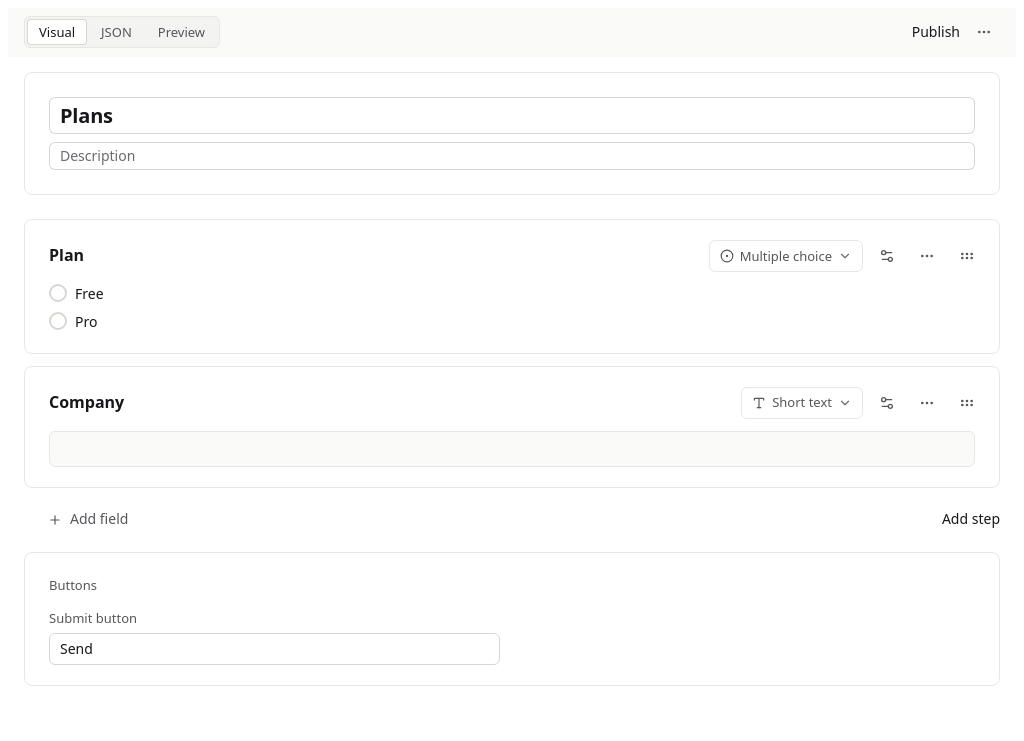
field settings sections › toggles required from the card head with the keyboard
The width and height of the screenshot is (1024, 741).
Click the 2nd button named "Field settings".
click(887, 403)  # box left=871, top=387, right=903, bottom=419
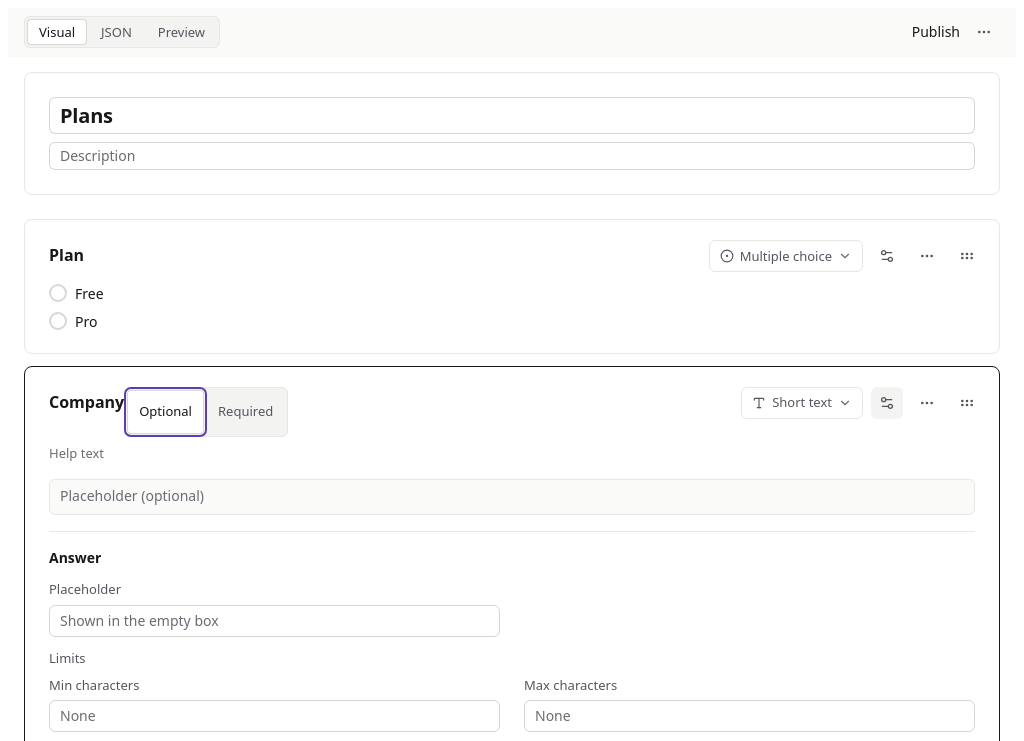
Press Arrowright
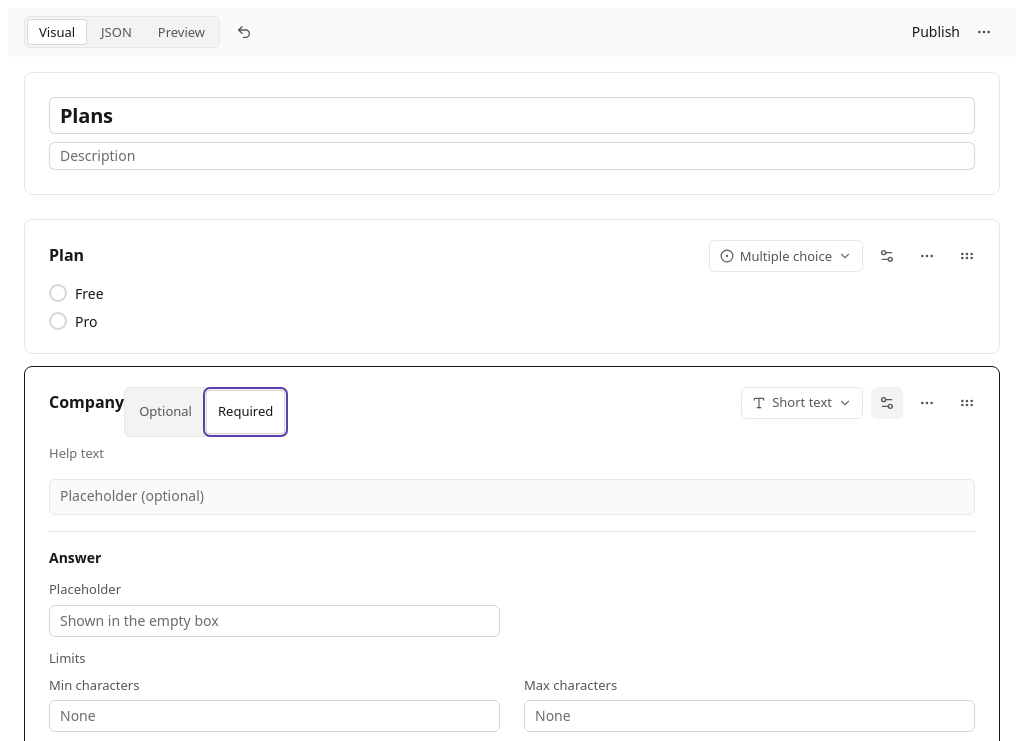
expect the radio button labelled "Required" is checked: met, box left=206, top=390, right=285, bottom=434
